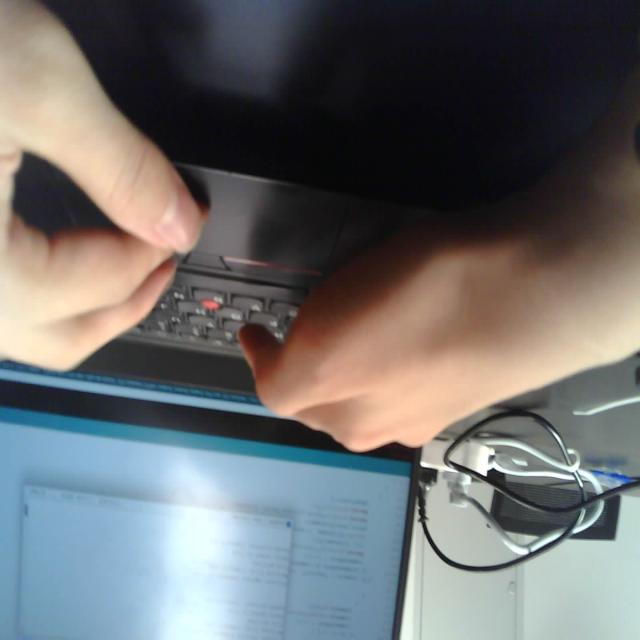keyboard-with-hands: (0, 118, 447, 401)
